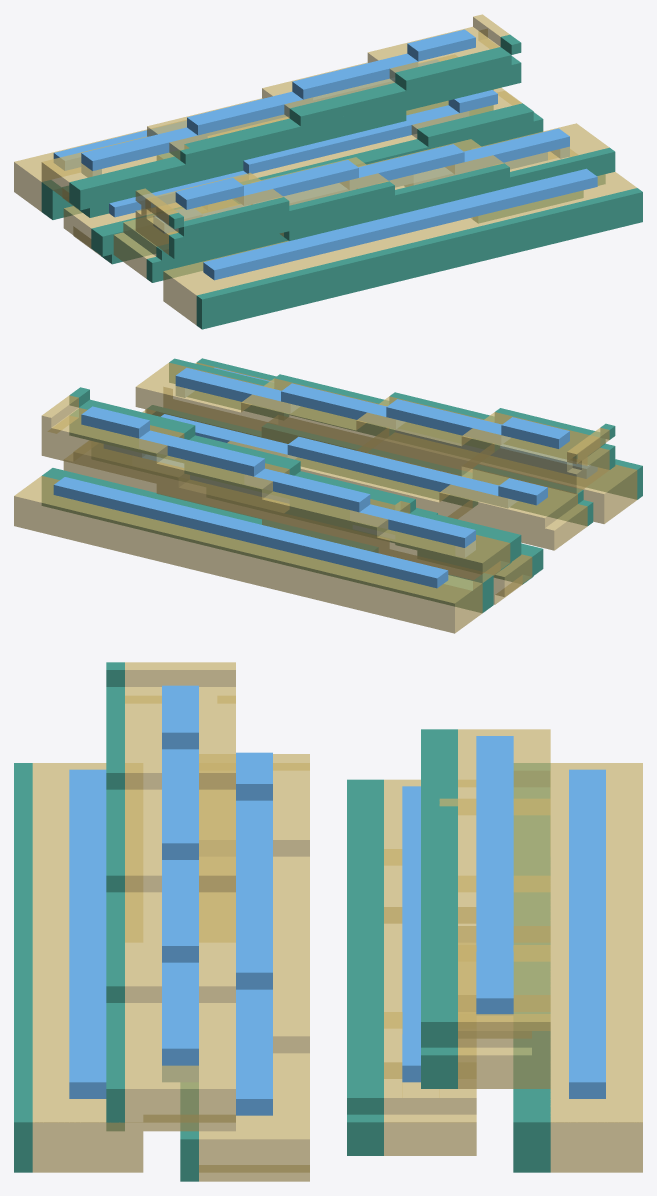
File: glowing_mushroom_strips.glb
The picture shows the model from 3 angles, top to bottom: view 1: azimuth 30°, elevation 25°; view 2: azimuth 150°, elevation 25°; view 3: azimuth 270°, elevation 25°; orthographic projection. The views are drawn at different scales.
Visible parts, largest first — view 1: glowing_mushroom_strips:compound; view 2: glowing_mushroom_strips:compound; view 3: glowing_mushroom_strips:compound.
Part boxes in pixels (x1,y1,x2,y2): glowing_mushroom_strips:compound: [14, 14, 642, 329]; glowing_mushroom_strips:compound: [14, 358, 642, 633]; glowing_mushroom_strips:compound: [14, 662, 642, 1181].
Bounding box in the file's own units: 0.092 × 0.02 × 0.068.
